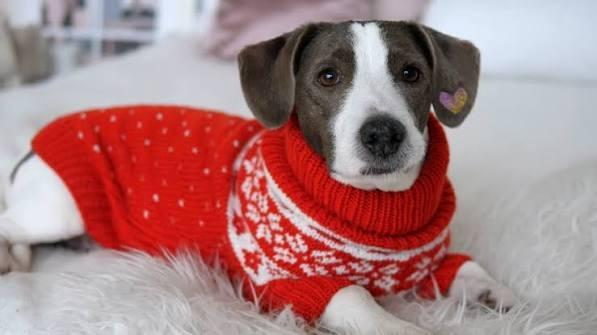puppy-dog: (0, 17, 530, 335)
